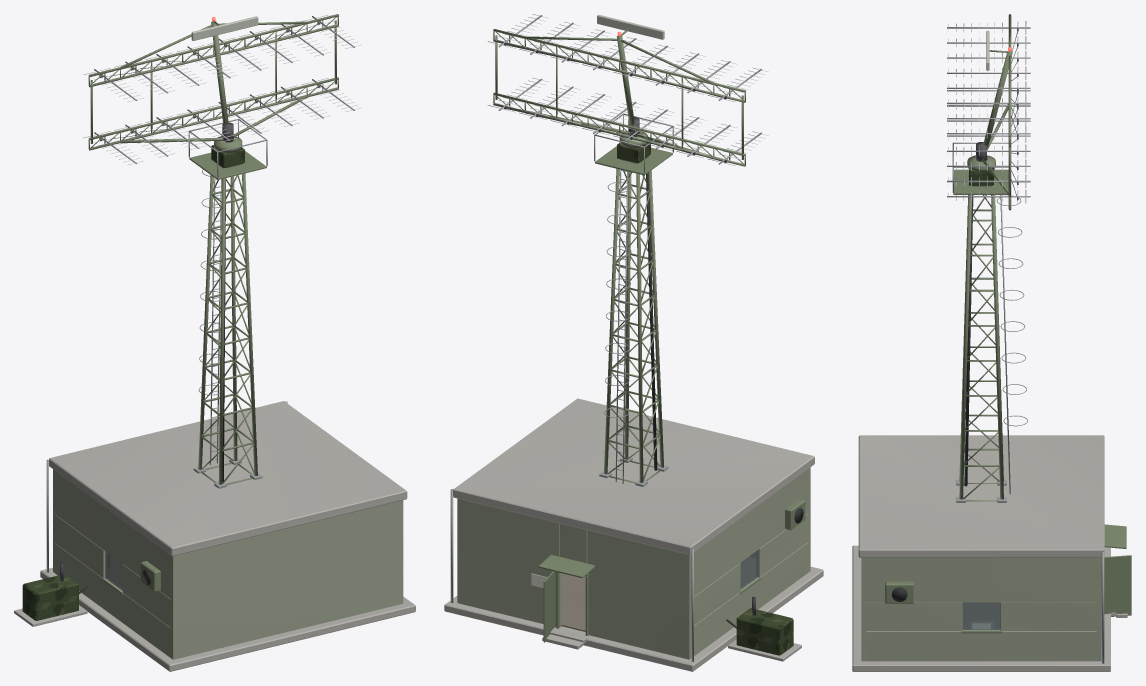
Rendered from radar_post.glb.
3 renders of one model, left to right at view 1: azimuth 30°, elevation 25°; view 2: azimuth 150°, elevation 25°; view 3: azimuth 270°, elevation 25°, orthographic.
Parts seen in each view (by area): view 1: RPOST_base_geo, radar_yaw_geo; view 2: RPOST_base_geo, radar_yaw_geo; view 3: RPOST_base_geo, radar_yaw_geo.
Part boxes in pixels (left/top/right/bottom): RPOST_base_geo: left=14, top=119, right=415, bottom=671; radar_yaw_geo: left=83, top=14, right=361, bottom=164; RPOST_base_geo: left=444, top=113, right=823, bottom=671; radar_yaw_geo: left=487, top=14, right=768, bottom=166; RPOST_base_geo: left=852, top=142, right=1131, bottom=671; radar_yaw_geo: left=947, top=14, right=1030, bottom=210.
Bounding box in the file's own units: 11.16 × 19.8 × 8.86.
Materials: 20 (1 with a texture image).
